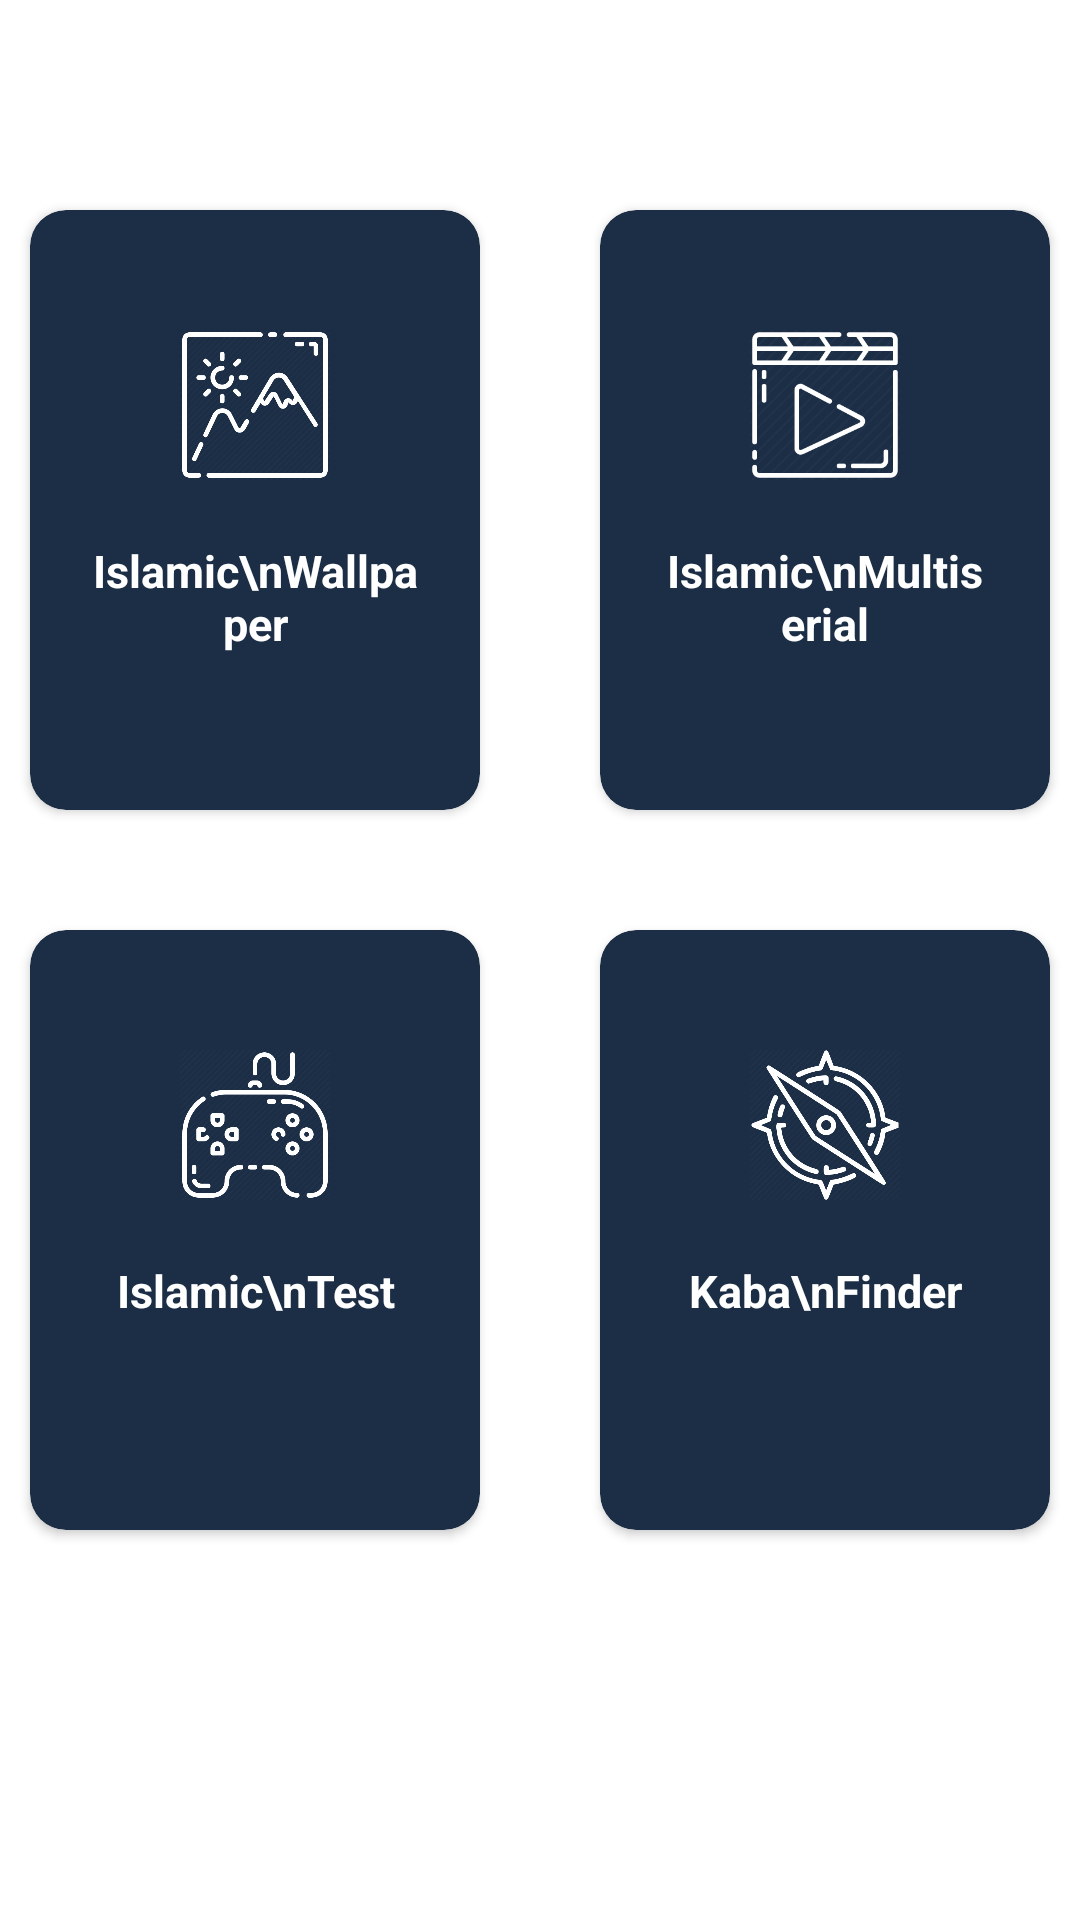

Where icons sit on this 1080px×1920px app screen, as (x1, y1, x2, y2):
game: (182, 1052, 328, 1198)
